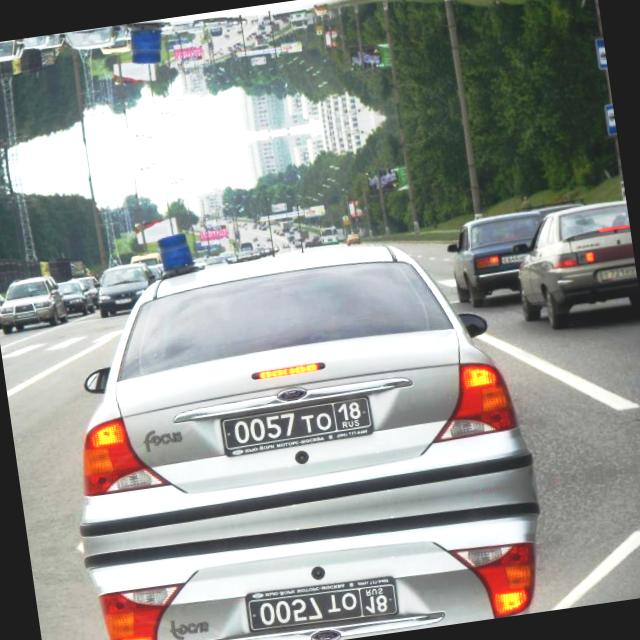military: (221, 394, 374, 456), (246, 572, 399, 634)
